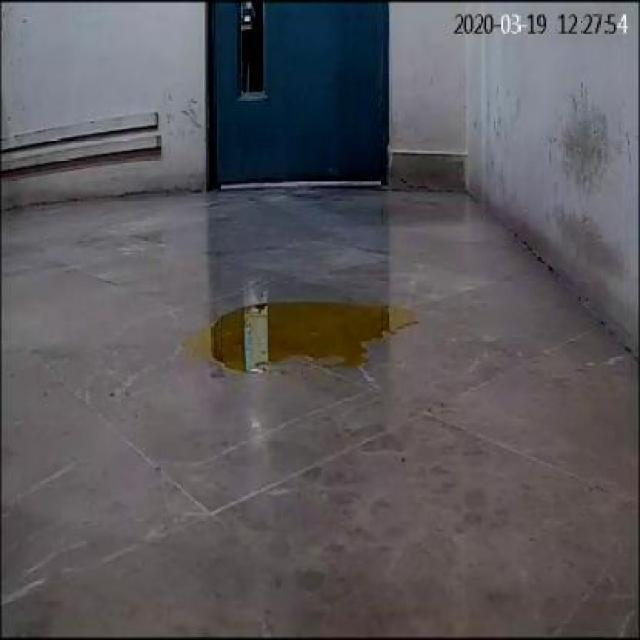spill: (182, 302, 420, 378)
